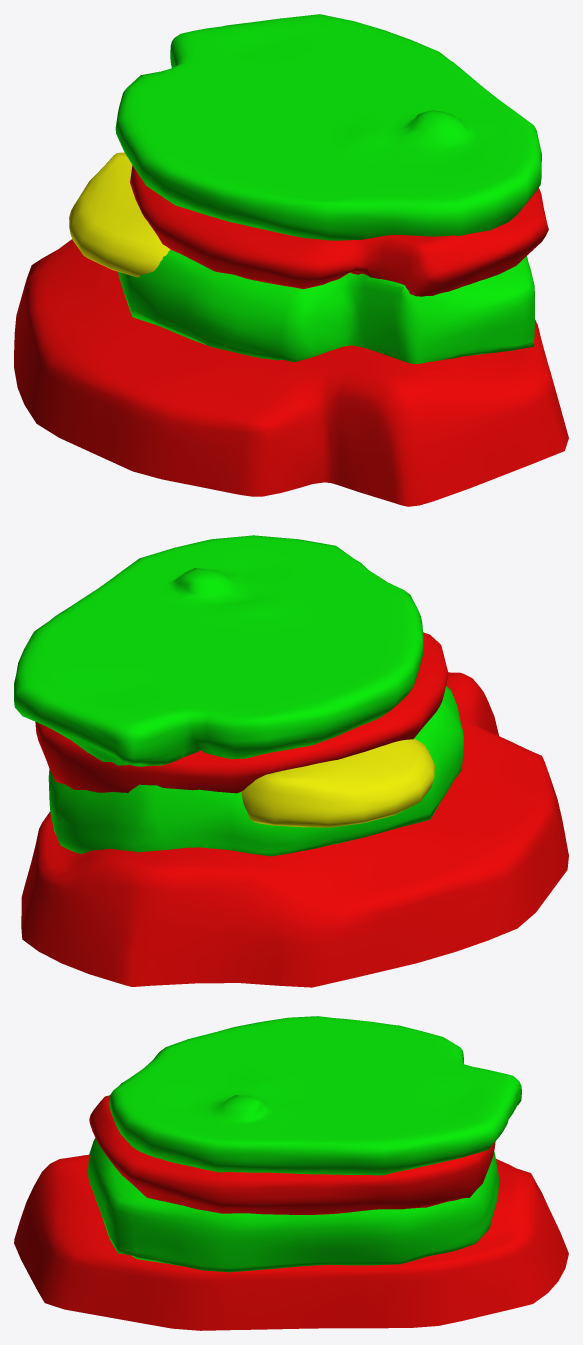
File: rock7.fbx
3 renders of one model, top to bottom at view 1: azimuth 30°, elevation 25°; view 2: azimuth 150°, elevation 25°; view 3: azimuth 270°, elevation 25°, orthographic. The views are drawn at different scales.
Visible parts, largest first — view 1: rocher7:rock7; view 2: rocher7:rock7; view 3: rocher7:rock7.
Boxes of the visible parts, x1=… form: rocher7:rock7: x1=14, y1=14, x2=568, y2=506; rocher7:rock7: x1=14, y1=535, x2=568, y2=987; rocher7:rock7: x1=14, y1=1016, x2=568, y2=1330.
Bounding box in the file's own units: 1663 × 876 × 2170.
